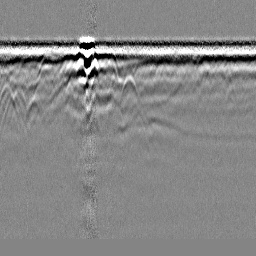cavity: (118, 71, 140, 103)
